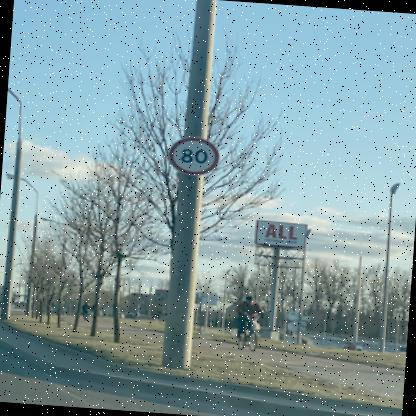speedlimit: (164, 134, 218, 176)
